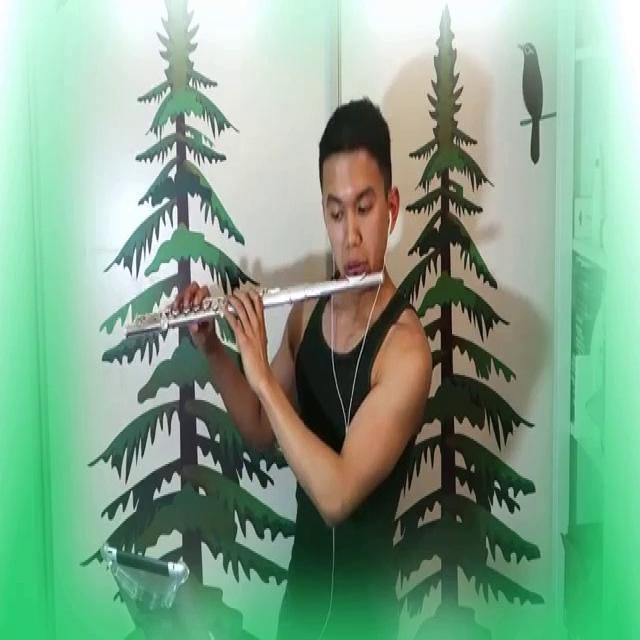Flute: (120, 255, 389, 358)
